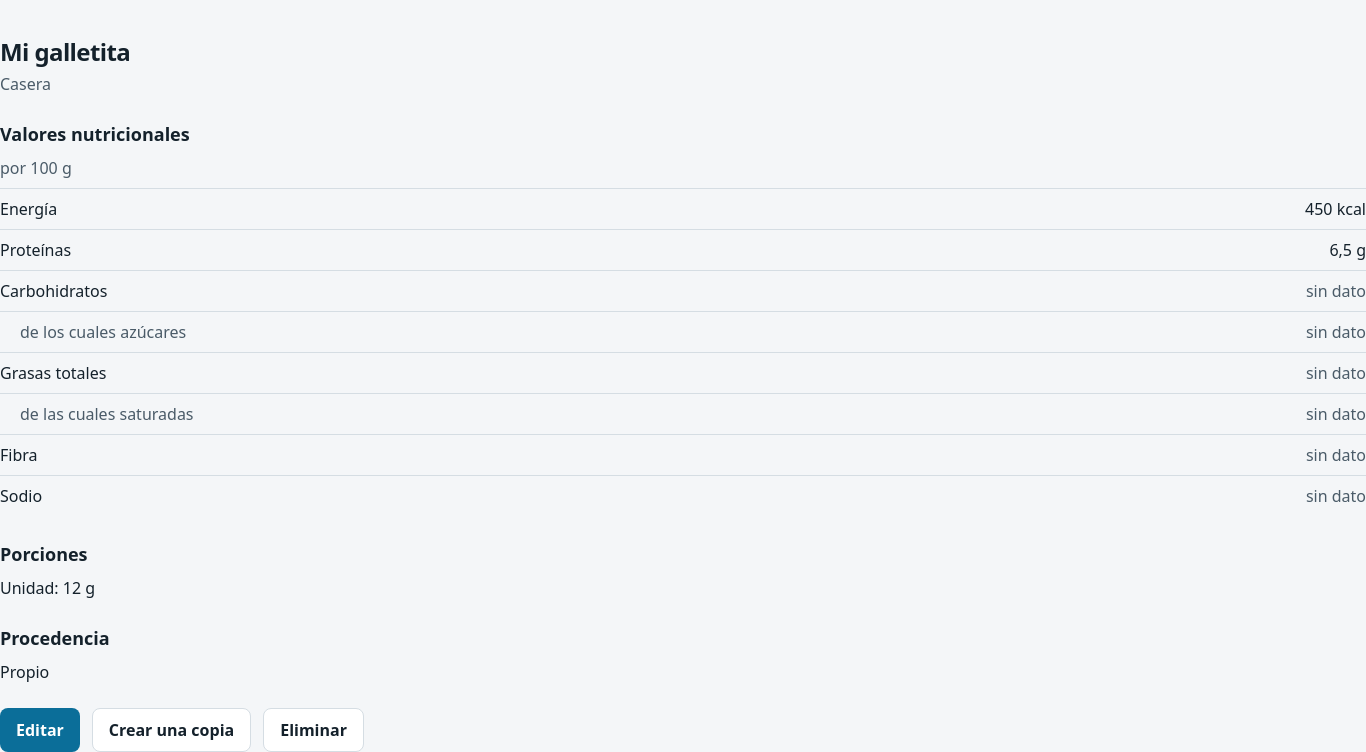
Test: Eliminar (FR-021) › pide confirmación accesible antes de eliminar y no elimina todavía
This screenshot has width=1366, height=752.
(page scrolled)
What coordinates should you click on to do the following:
click the button "Eliminar"
I would click on:
 (314, 730)
Its box is [263, 708, 364, 751].
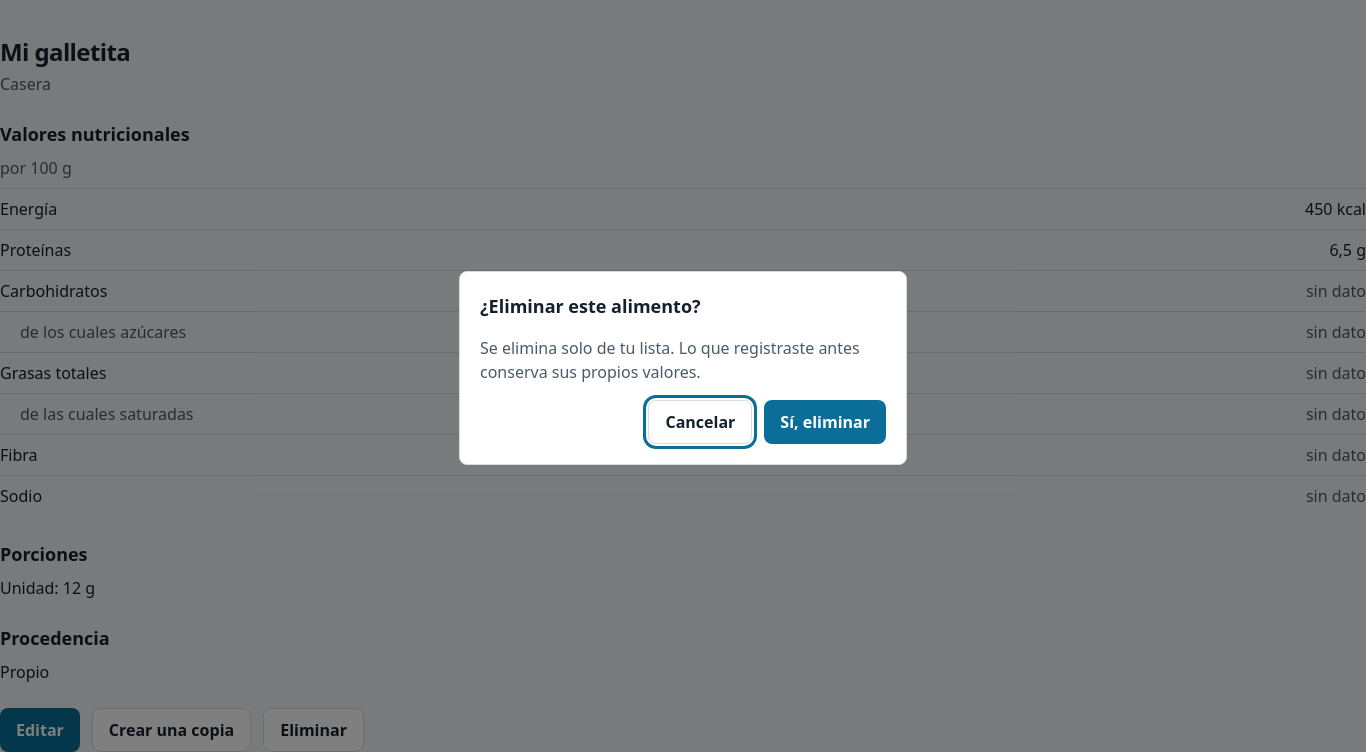
Expected: the dialog "¿Eliminar este alimento?" shows "Se elimina solo de tu lista. Lo que registraste antes conserva sus propios valores.", [480, 337, 860, 383]
